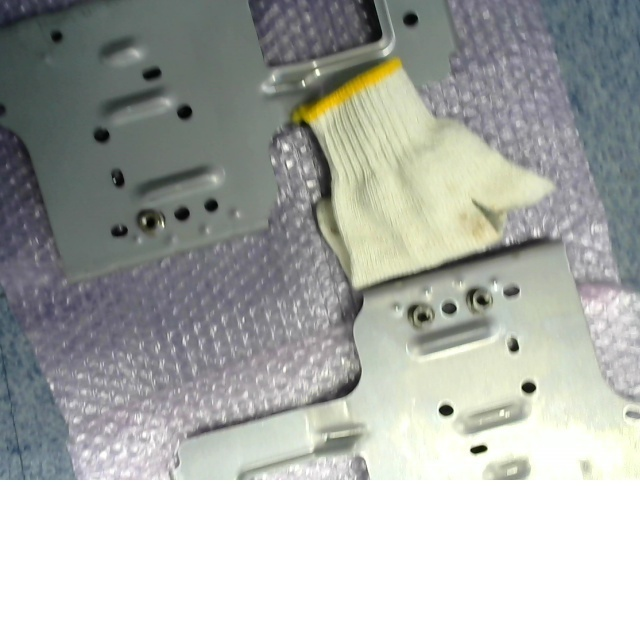dog: (137, 206, 167, 239), (408, 299, 437, 329), (467, 286, 493, 314)
